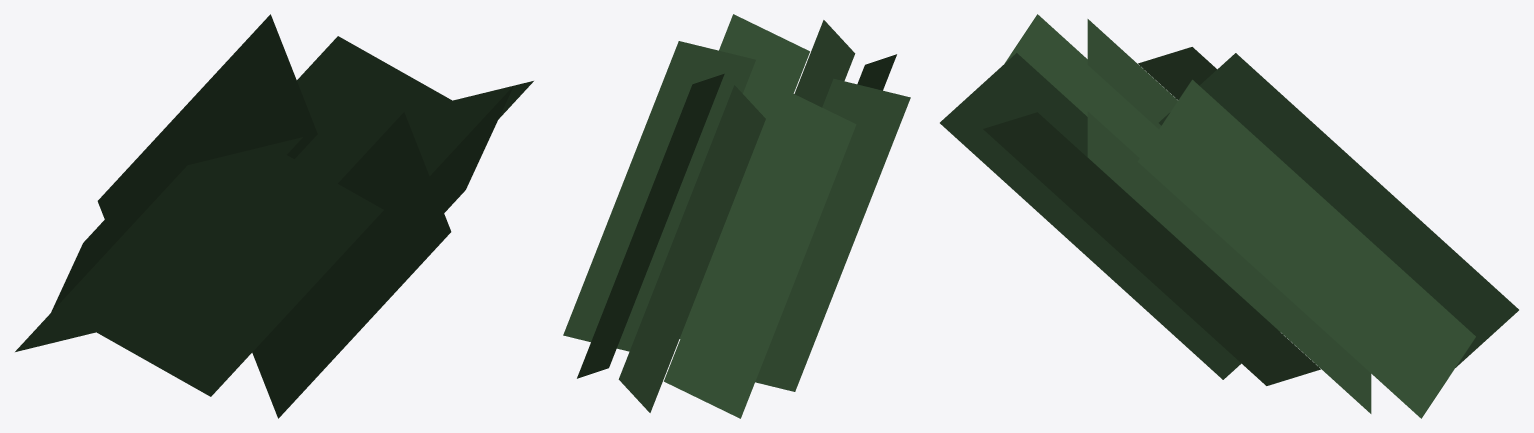
The model's file is fern_cluster.glb.
The picture shows the model from 3 angles, left to right: view 1: azimuth 30°, elevation 25°; view 2: azimuth 150°, elevation 25°; view 3: azimuth 270°, elevation 25°; orthographic projection. The views are drawn at different scales.
Visible parts, largest first — view 1: Fern_Cluster; view 2: Fern_Cluster; view 3: Fern_Cluster.
Part boxes in pixels (<box>): Fern_Cluster: <box>15,14,533,418</box>; Fern_Cluster: <box>563,14,910,418</box>; Fern_Cluster: <box>940,14,1518,418</box>.
Size of the model in its own units: 0.9 by 0.9899 by 1.59.
